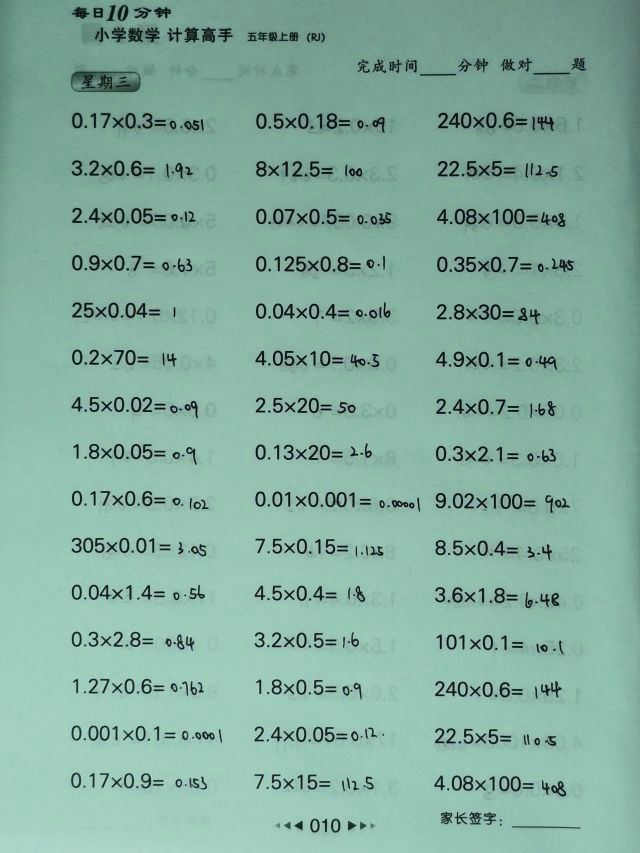equation: (250, 484, 422, 516), (427, 485, 574, 515), (431, 771, 570, 802), (67, 485, 211, 512), (66, 721, 226, 745), (69, 438, 202, 466), (67, 533, 210, 559), (66, 391, 203, 418), (68, 109, 205, 136), (431, 582, 563, 610), (251, 108, 388, 134), (432, 630, 566, 656), (66, 769, 211, 793), (432, 393, 560, 420), (252, 205, 396, 229), (252, 299, 395, 323), (432, 204, 569, 229), (67, 581, 209, 605), (66, 627, 197, 653), (252, 534, 386, 559), (68, 674, 207, 698), (433, 253, 578, 276), (431, 440, 559, 466), (431, 677, 564, 702), (251, 345, 383, 370), (252, 252, 389, 276), (66, 250, 196, 275), (66, 156, 196, 181), (433, 107, 558, 133), (430, 724, 559, 749), (431, 347, 560, 372), (433, 156, 561, 181), (252, 723, 389, 746), (430, 536, 556, 561), (68, 204, 199, 228), (252, 440, 377, 465), (250, 580, 368, 606), (251, 770, 378, 794), (252, 675, 366, 701), (432, 299, 544, 325), (67, 344, 179, 369), (252, 157, 367, 181), (252, 393, 361, 418), (252, 627, 364, 651), (68, 299, 180, 323)
